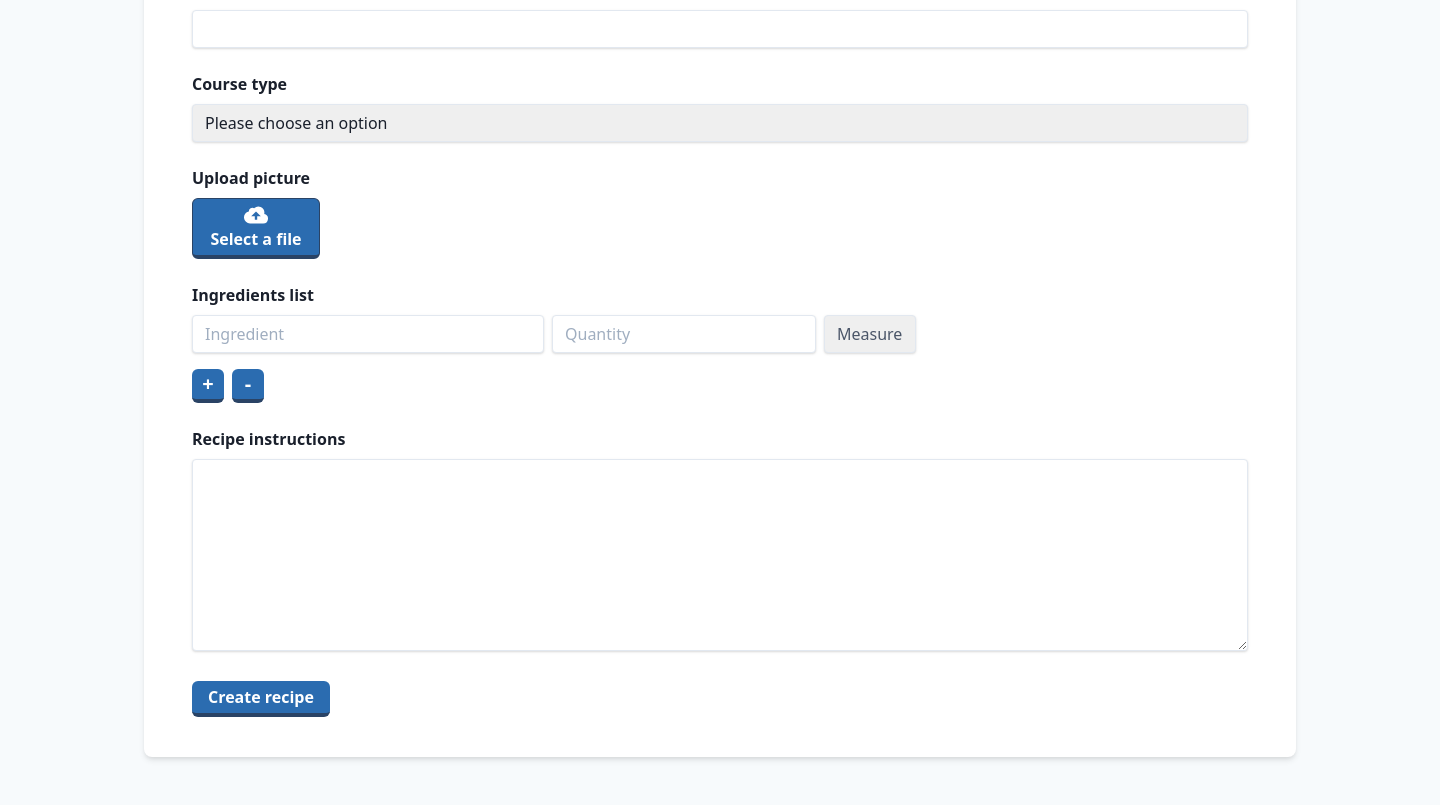
Test: displays errors upon submit
(page scrolled)
Click the button "Create recipe": (261, 699) [192,681,330,717]
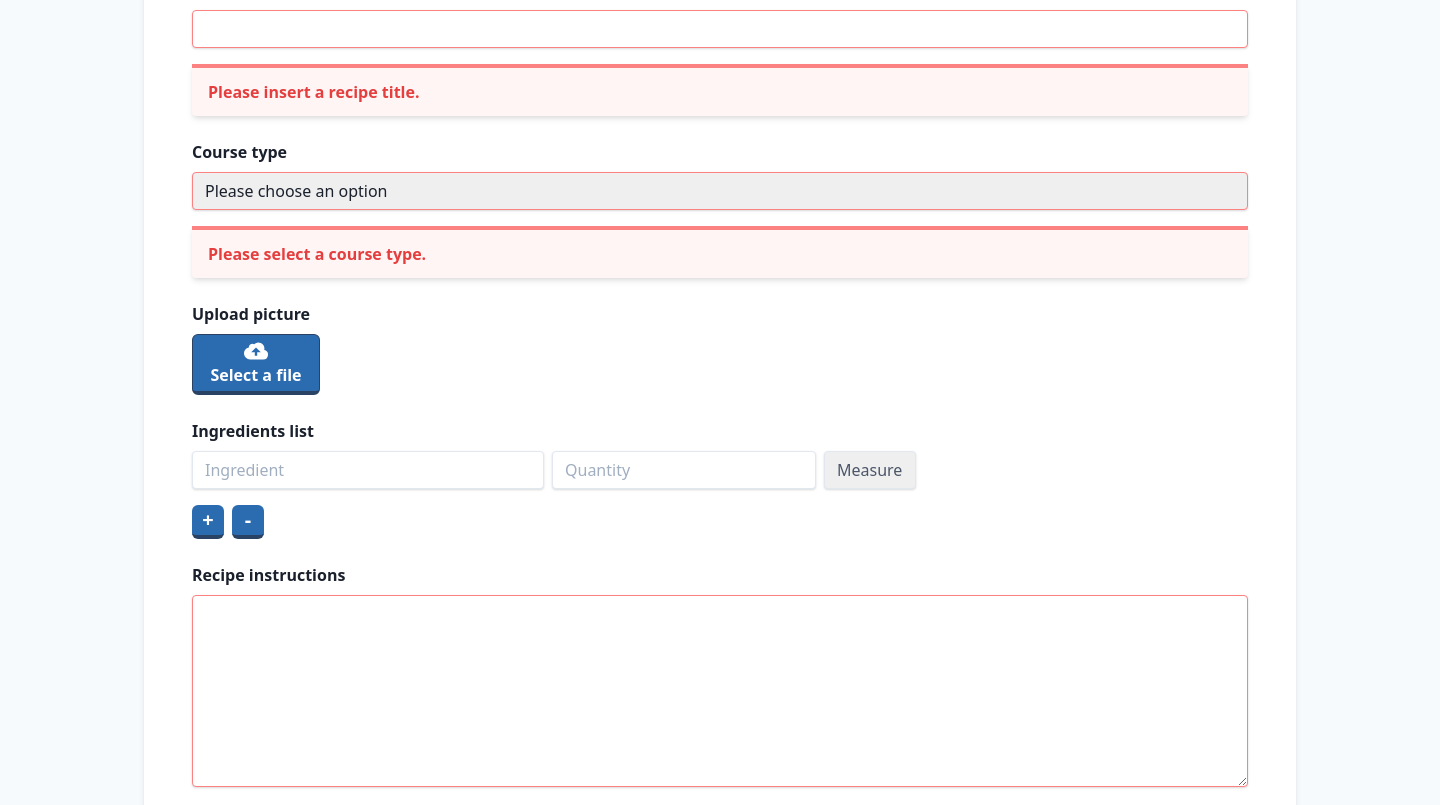
Expected: the text "Please insert a recipe title." is shown, [208,81,420,103]
Expected: the text "Please select a course type." is shown, [208,243,426,265]
